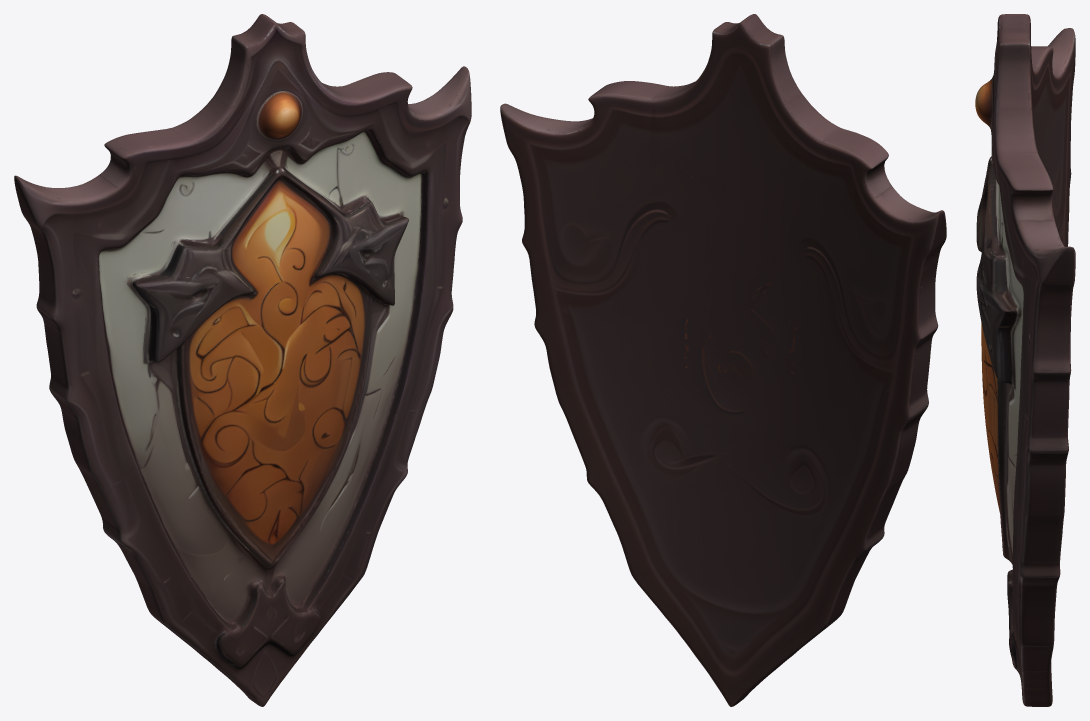
The model's file is Sheild 00.fbx.
The picture shows the model from 3 angles, left to right: view 1: azimuth 30°, elevation 25°; view 2: azimuth 150°, elevation 25°; view 3: azimuth 270°, elevation 25°; orthographic projection. The views are drawn at different scales.
Visible parts, largest first — view 1: Sheild 00; view 2: Sheild 00; view 3: Sheild 00.
Part boxes in pixels (x1=…): Sheild 00: x1=14, y1=14, x2=471, y2=706; Sheild 00: x1=500, y1=14, x2=946, y2=706; Sheild 00: x1=975, y1=14, x2=1075, y2=706.
Size of the model in its own units: 128 by 188 by 24.79.
1 material, 1 textured.
